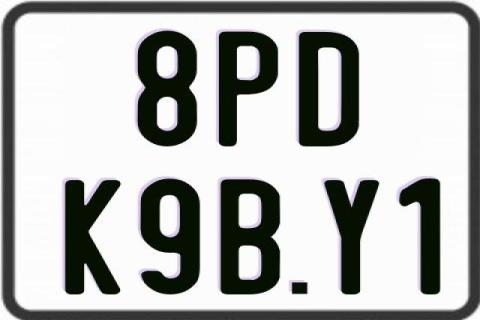0: (137, 177, 203, 297), (135, 30, 201, 148), (399, 178, 440, 298)
B: (220, 177, 282, 297)
D: (299, 30, 364, 150)
K: (64, 180, 126, 296)
P: (219, 30, 282, 148)
Y: (321, 178, 378, 296)
